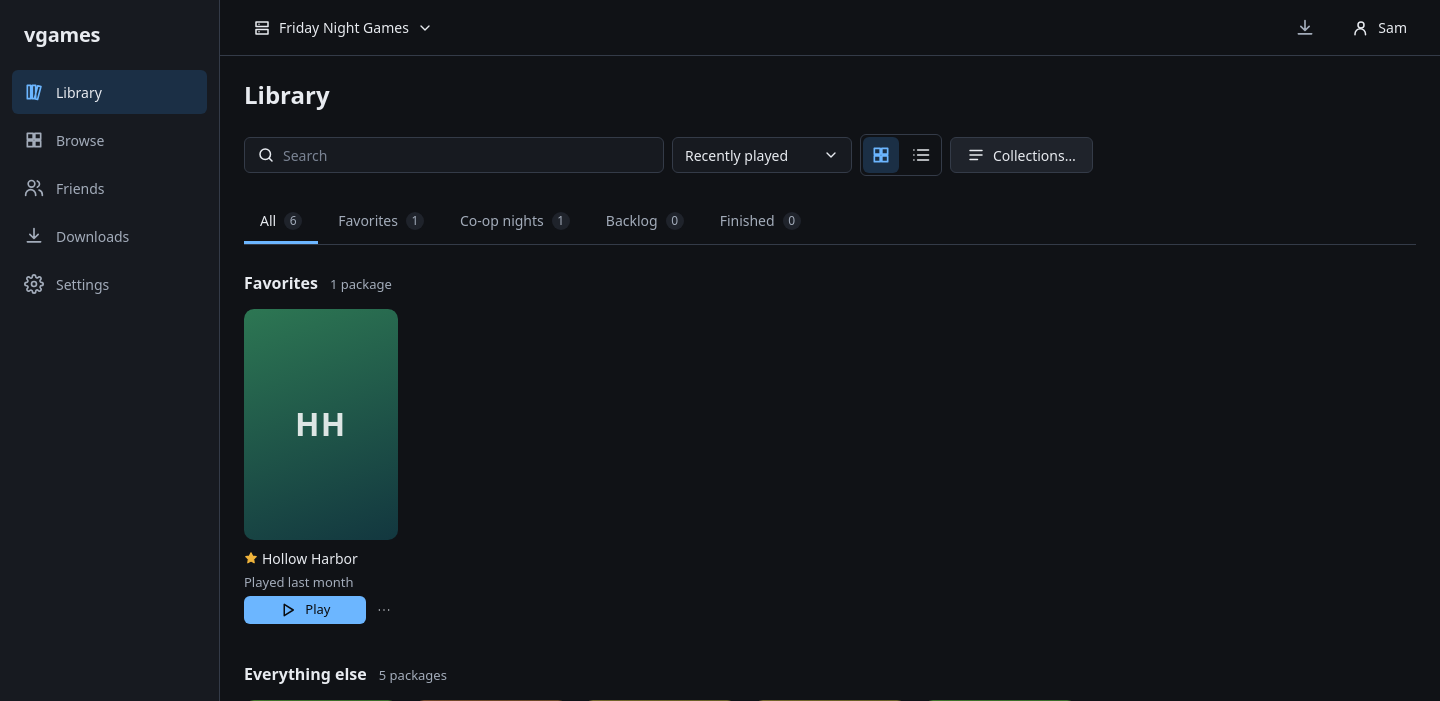
Test: library › Play launches the default target, and Stop asks first
Click the button with aria-label "Play Hollow Harbor".
click(305, 610)  # box [244,596,366,624]
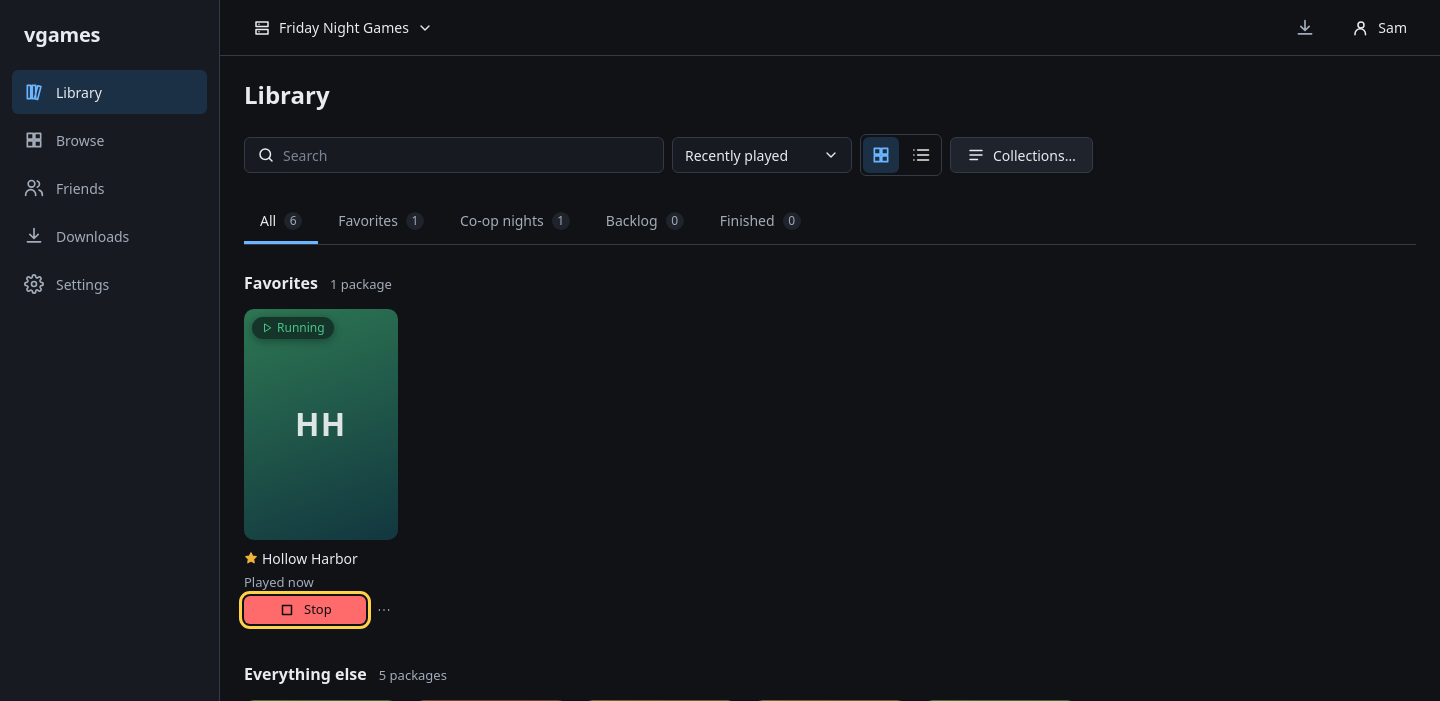
Click the button with aria-label "Stop Hollow Harbor".
click(305, 610)  # box [244,596,366,624]
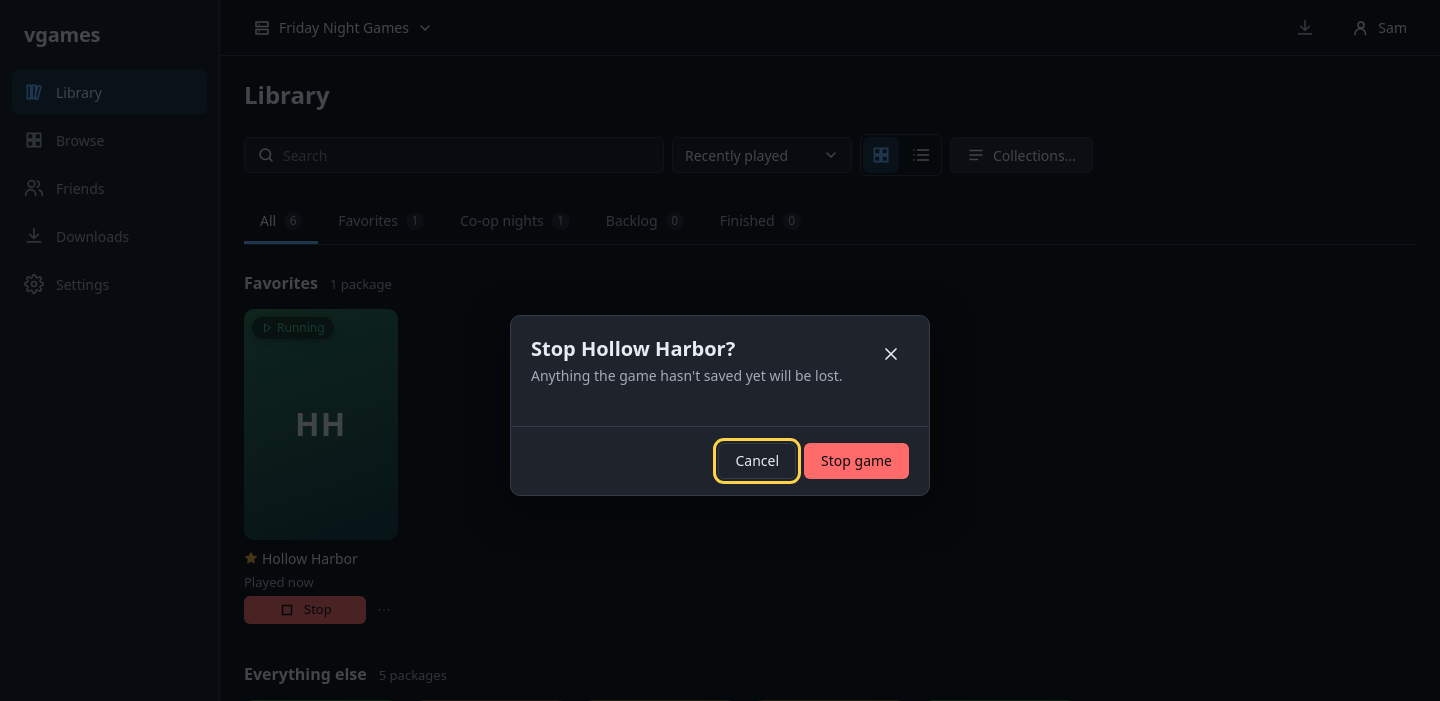
Click the button "Stop game".
click(857, 460)  # box [804,442,909,478]
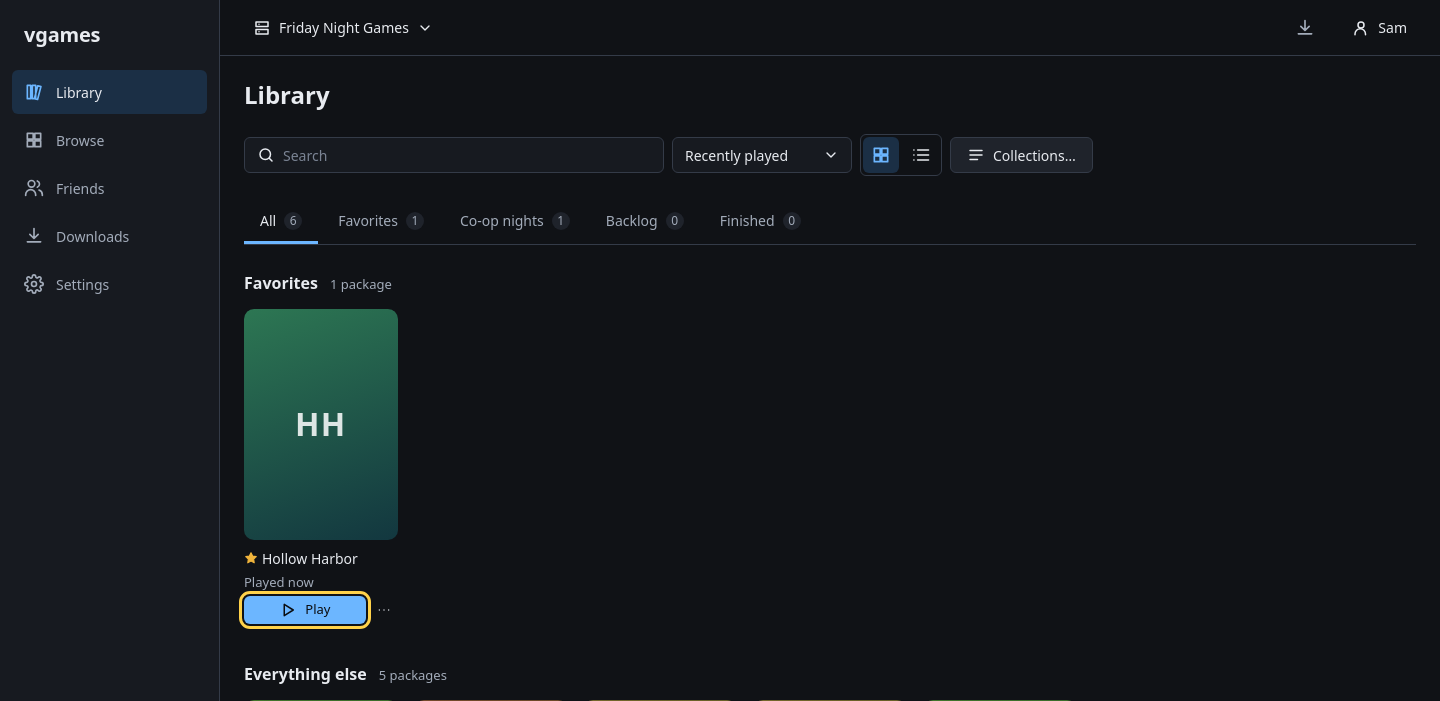
Result: the button with aria-label "Play Hollow Harbor" is shown at [244,596,366,624]
